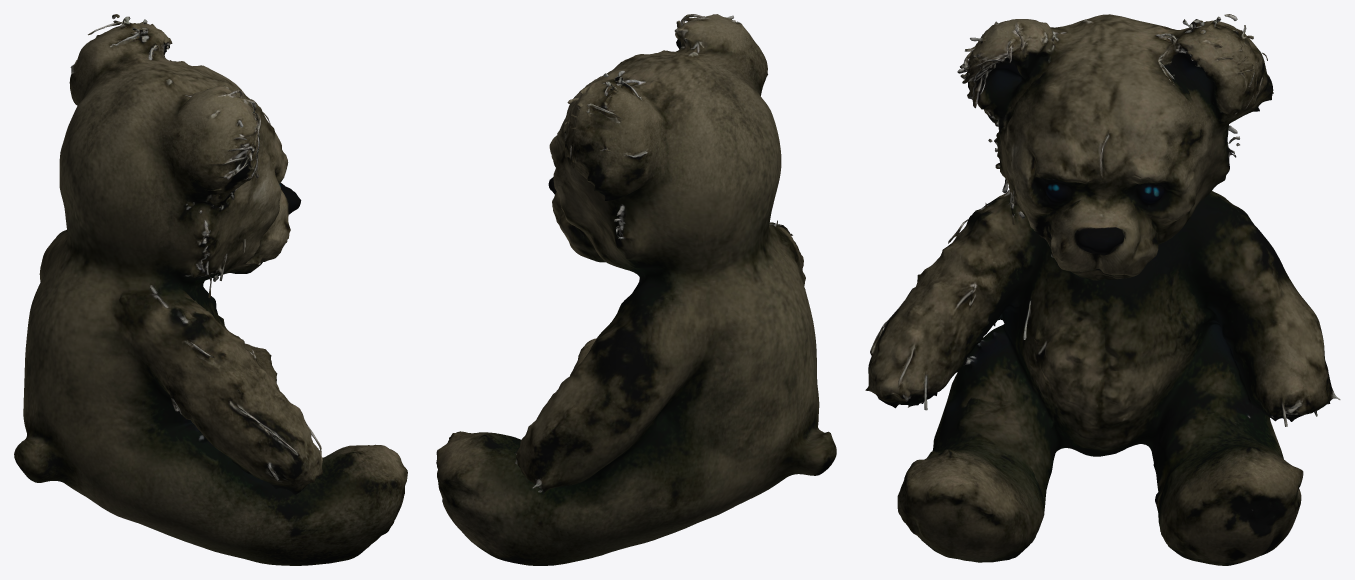
The model's file is oso.fbx.
The picture shows the model from 3 angles, left to right: view 1: azimuth 30°, elevation 25°; view 2: azimuth 150°, elevation 25°; view 3: azimuth 270°, elevation 25°; orthographic projection. The views are drawn at different scales.
Parts seen in each view (by area): view 1: tripo_node_5718b920; view 2: tripo_node_5718b920; view 3: tripo_node_5718b920.
Boxes of the visible parts, x1,y1,x2,y2 form: tripo_node_5718b920: (14,14,407,565); tripo_node_5718b920: (436,14,836,565); tripo_node_5718b920: (865,14,1340,565).
Size of the model in its own units: 0.6915 by 1 by 0.8635.
Materials: 1 (1 with a texture image).
